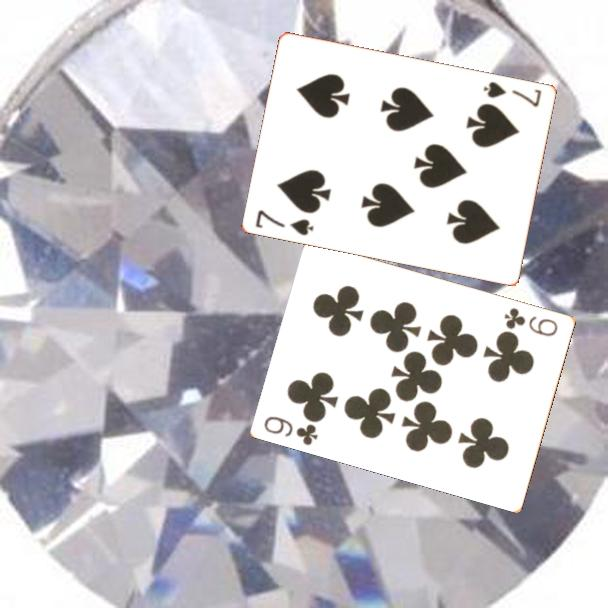c09: (261, 412, 321, 448), (501, 304, 561, 339)
s07: (480, 78, 545, 110), (252, 206, 317, 238)
